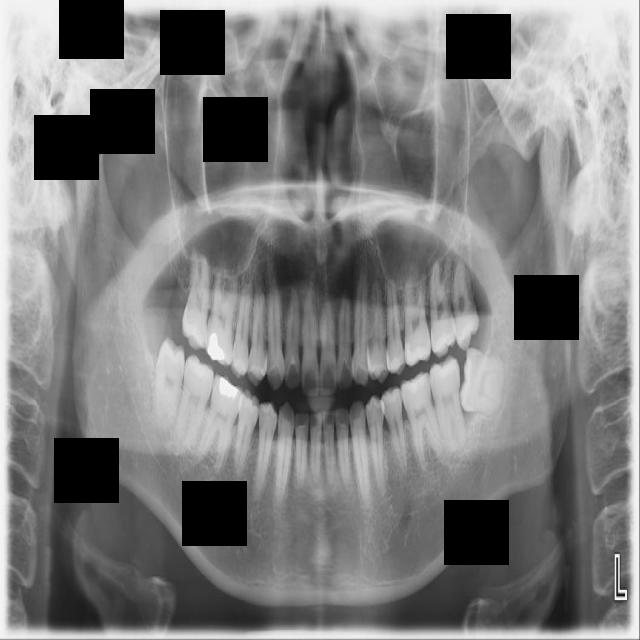52: (204, 373, 249, 425), (204, 315, 233, 368), (405, 325, 431, 367)
73: (584, 556, 584, 564)
BioHorizons Implant: (427, 255, 458, 358)
BioLife Implant: (450, 247, 480, 352)
Biomet 3i Implant: (457, 346, 510, 417)
Blue Sky Bio Implant: (426, 354, 469, 455)
Caries: (180, 239, 213, 350)
Implant: (173, 353, 217, 450)
Keystone Dental Implant: (148, 335, 188, 433)
